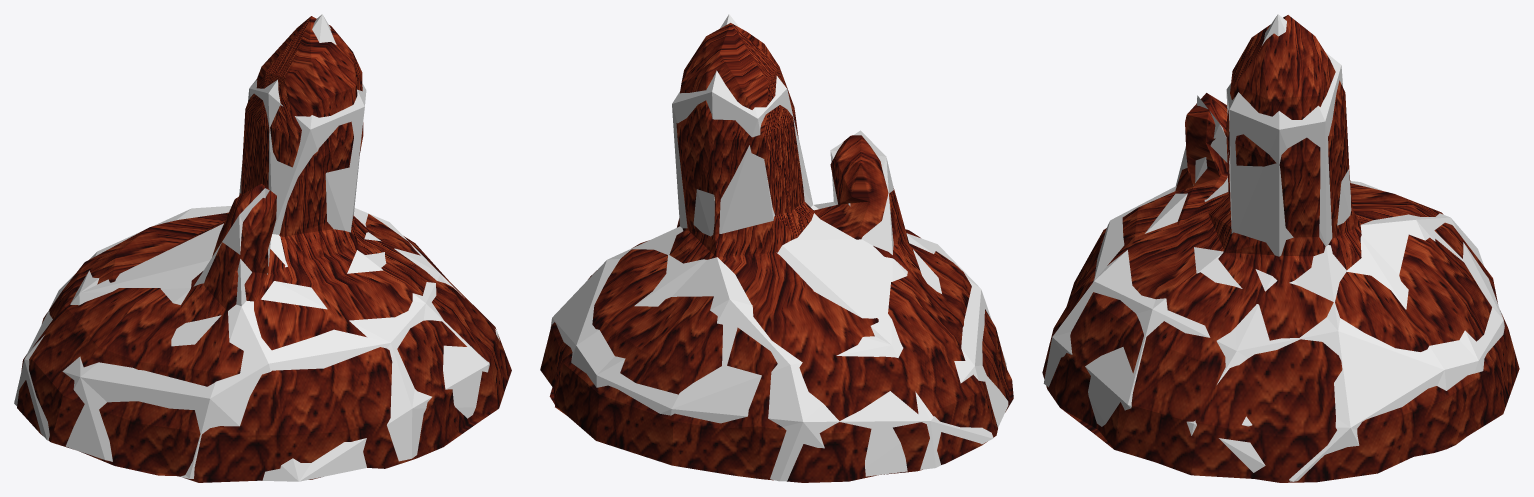
The model's file is Cupinzeiro-02-Cupula.glb.
3 renders of one model, left to right at view 1: azimuth 30°, elevation 25°; view 2: azimuth 150°, elevation 25°; view 3: azimuth 270°, elevation 25°, orthographic. The views are drawn at different scales.
Visible parts, largest first — view 1: Cupinzeiro-02-Cupula, Cupinzeiro-02-Cupula_COL; view 2: Cupinzeiro-02-Cupula, Cupinzeiro-02-Cupula_COL; view 3: Cupinzeiro-02-Cupula, Cupinzeiro-02-Cupula_COL.
Part boxes in pixels (x1,y1,x2,y2): Cupinzeiro-02-Cupula: [17, 16, 511, 482]; Cupinzeiro-02-Cupula_COL: [14, 14, 499, 481]; Cupinzeiro-02-Cupula: [540, 23, 1013, 482]; Cupinzeiro-02-Cupula_COL: [550, 14, 1008, 481]; Cupinzeiro-02-Cupula: [1042, 15, 1519, 482]; Cupinzeiro-02-Cupula_COL: [1043, 14, 1504, 481].
Size of what is drawn, in the model's own units: 2.49 by 1.99 by 2.23.
1 material, 1 textured.
